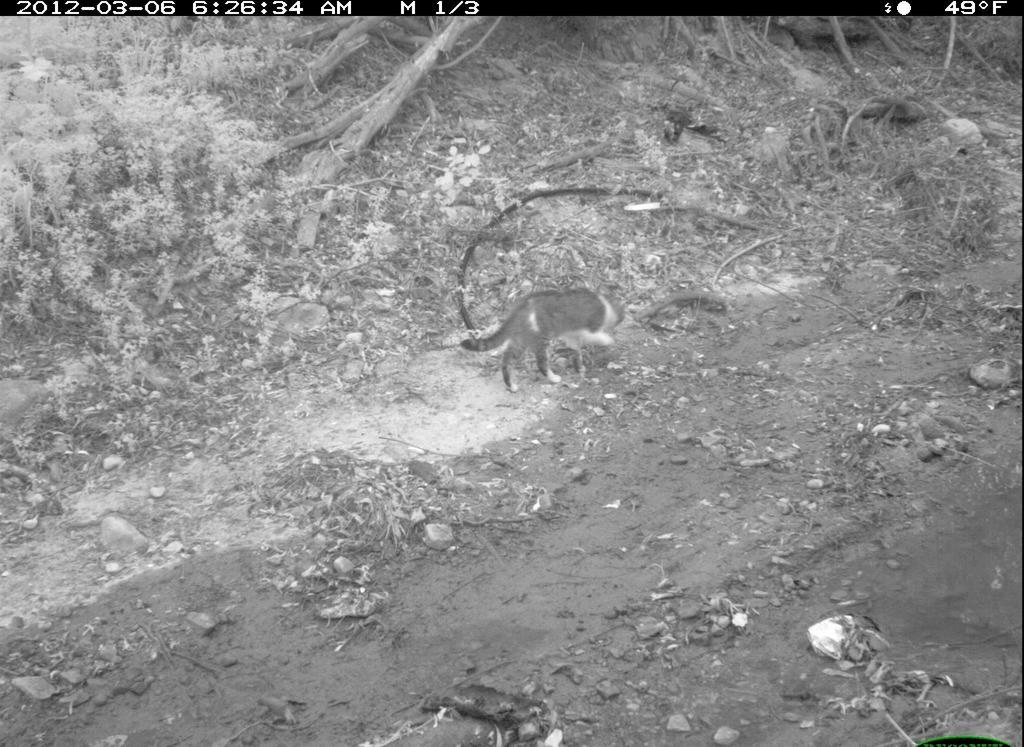cat: (449, 248, 665, 419)
